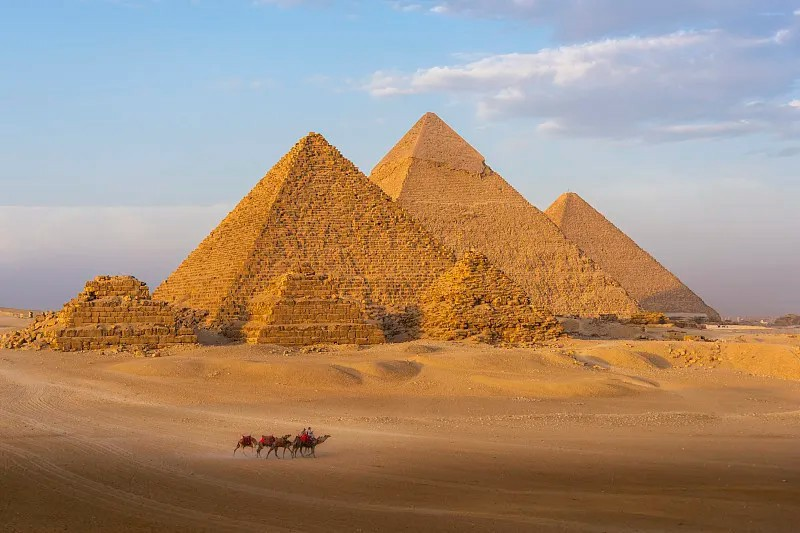Pyramid: (148, 131, 458, 328), (368, 114, 648, 327), (543, 191, 718, 317), (401, 253, 567, 343), (233, 262, 384, 345), (41, 276, 199, 350)
